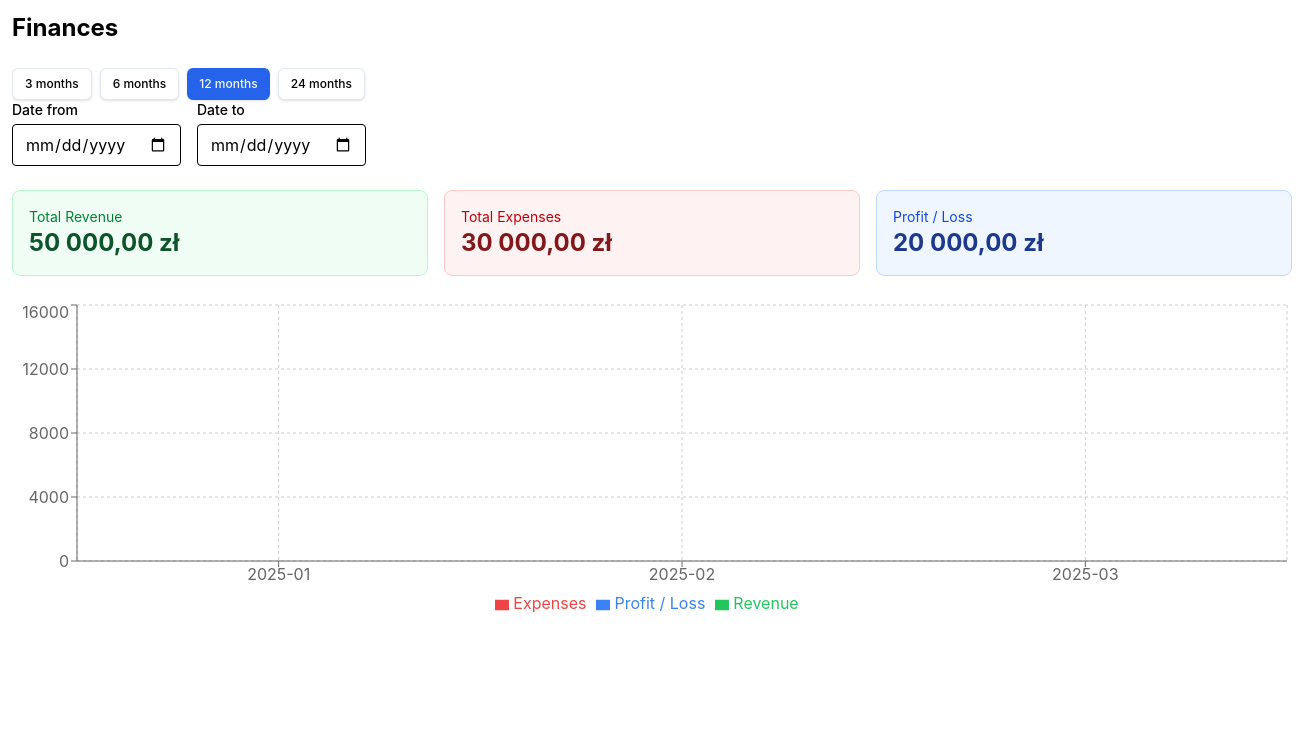
Test case: FinanceDashboard › does not change the query when only one date is set
This screenshot has width=1304, height=732.
Type "2025-01-01" into the date field labelled "Date from". click: (96, 145)
box: left=12, top=124, right=181, bottom=166
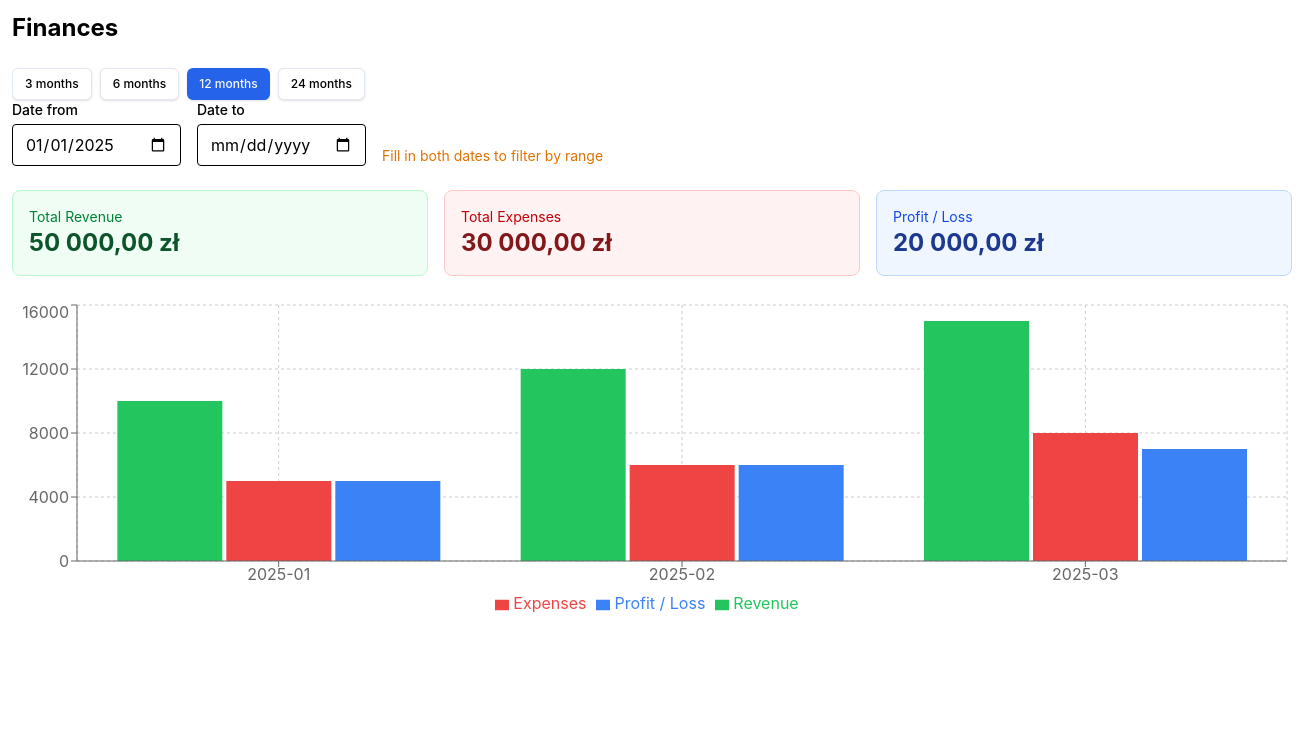
Check: the text "Fill in both dates to filter by range" is shown, box left=382, top=146, right=603, bottom=166
